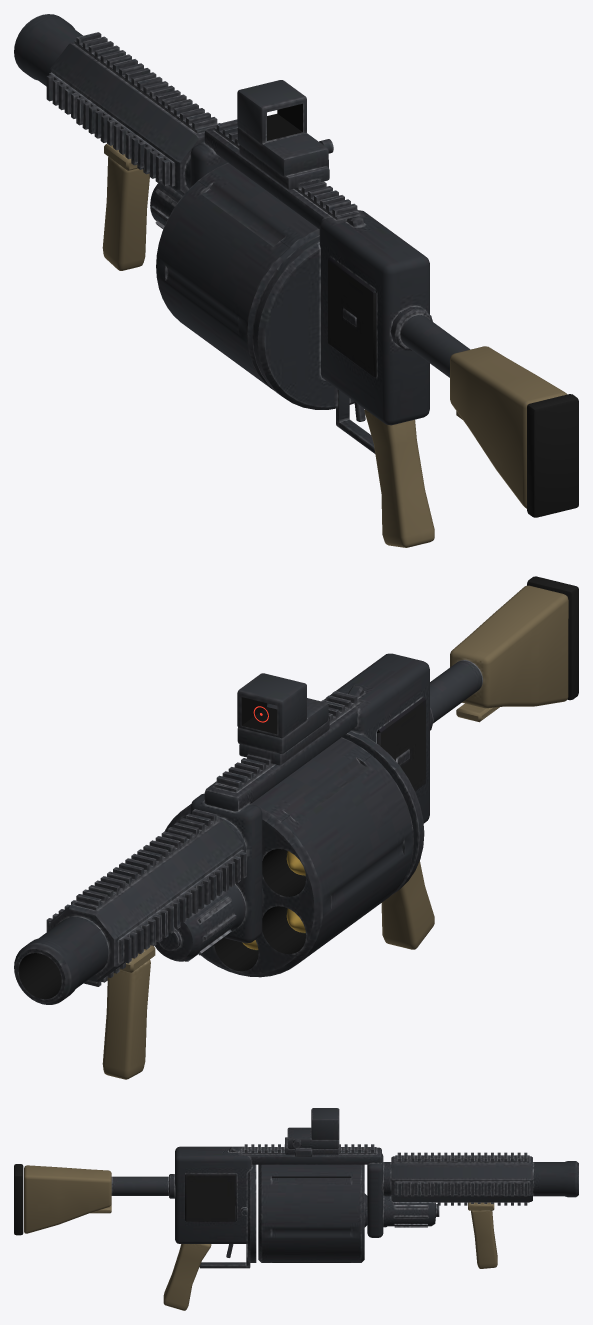
File: grenade_launcher.glb
3 renders of one model, top to bottom at view 1: azimuth 30°, elevation 25°; view 2: azimuth 150°, elevation 25°; view 3: azimuth 270°, elevation 25°, orthographic. The views are drawn at different scales.
Parts seen in each view (by area): view 1: GrenadeLauncher, cylinder; view 2: GrenadeLauncher, cylinder; view 3: GrenadeLauncher, cylinder.
Part boxes in pixels (left/top/right/bottom): GrenadeLauncher: left=14, top=14, right=578, bottom=547; cylinder: left=156, top=162, right=319, bottom=390; GrenadeLauncher: left=14, top=576, right=578, bottom=1079; cylinder: left=165, top=737, right=413, bottom=977; GrenadeLauncher: left=14, top=1108, right=578, bottom=1310; cylinder: left=258, top=1164, right=367, bottom=1262.
Size of the model in its own units: 0.158 by 0.3212 by 0.849.
2 materials, 1 textured.
